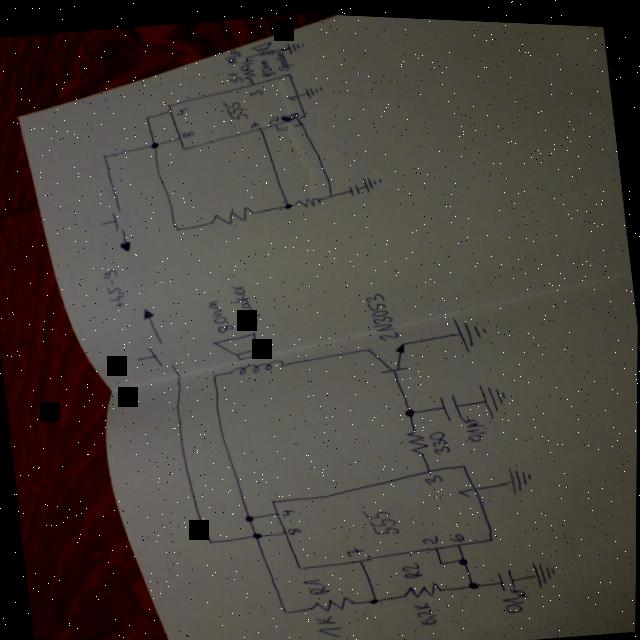capacitor: (436, 387, 463, 420), (495, 564, 517, 588), (344, 180, 360, 195), (237, 55, 254, 68)
ground: (450, 311, 490, 353), (475, 376, 509, 416), (528, 553, 558, 586), (504, 459, 533, 492), (360, 170, 383, 191), (284, 38, 305, 54), (302, 82, 322, 98)
junction: (401, 402, 416, 417), (465, 575, 480, 587), (366, 592, 379, 603), (242, 512, 255, 522), (455, 554, 468, 564), (249, 529, 261, 538), (280, 605, 291, 614), (171, 223, 182, 232), (207, 370, 218, 379), (147, 140, 158, 149), (281, 199, 291, 208), (99, 152, 108, 160), (204, 537, 213, 545), (435, 556, 444, 563), (325, 189, 333, 196), (142, 113, 149, 120), (273, 125, 280, 131), (296, 120, 302, 125)
resistor: (204, 201, 258, 229), (399, 576, 445, 599), (309, 591, 353, 613), (403, 427, 428, 454), (290, 190, 323, 209), (240, 64, 255, 79)
source: (138, 305, 154, 321), (117, 238, 132, 253)
switch: (131, 334, 177, 375), (95, 205, 126, 236)
text: (363, 288, 397, 340), (227, 279, 262, 327), (361, 503, 399, 536), (98, 266, 126, 310), (204, 296, 234, 334), (313, 610, 343, 640), (500, 584, 529, 612), (459, 410, 486, 440), (411, 596, 437, 624), (220, 97, 246, 123), (426, 424, 449, 453), (303, 572, 330, 596), (272, 49, 294, 70), (222, 44, 242, 65), (256, 55, 275, 77), (400, 558, 422, 577), (342, 541, 365, 557), (422, 469, 442, 483), (225, 68, 242, 83), (419, 530, 440, 542), (277, 108, 298, 120), (447, 528, 464, 540), (284, 524, 301, 535), (455, 484, 472, 495), (278, 505, 294, 516), (246, 86, 263, 96), (172, 105, 187, 116), (265, 111, 278, 123), (179, 129, 192, 138), (247, 119, 260, 128), (283, 92, 295, 99)
transistor: (362, 336, 414, 378)
